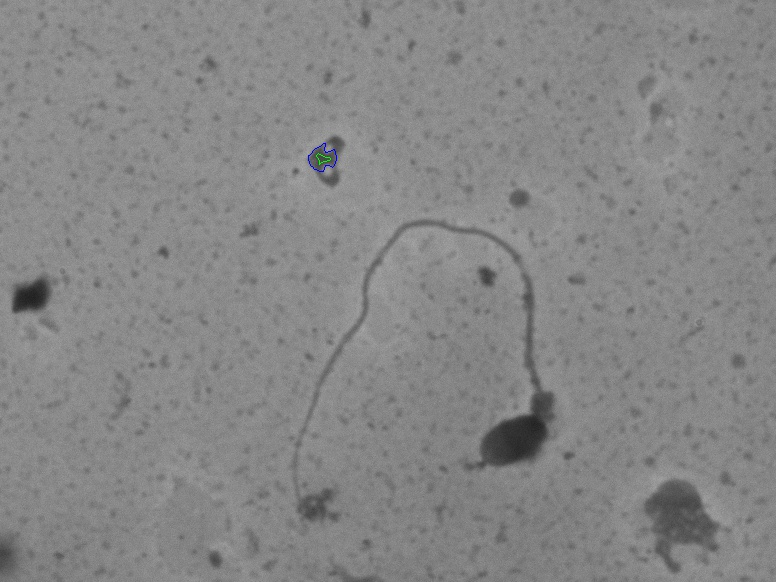Abnormal: (253, 195, 580, 531)
